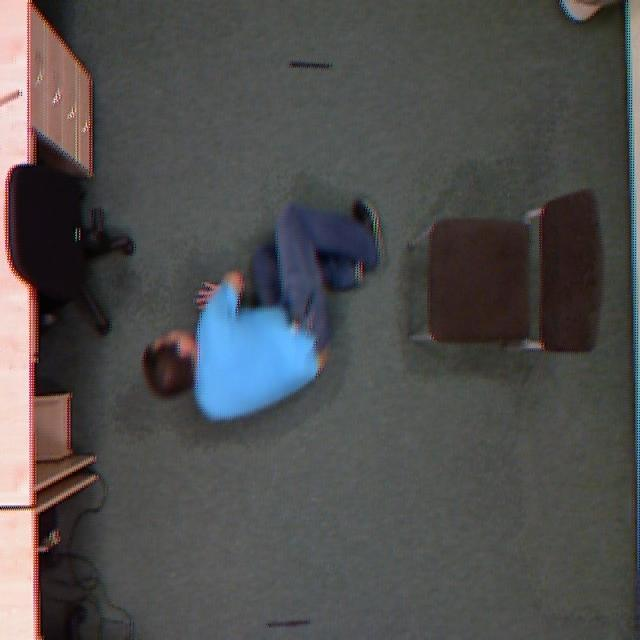fall detected: (132, 193, 392, 427)
